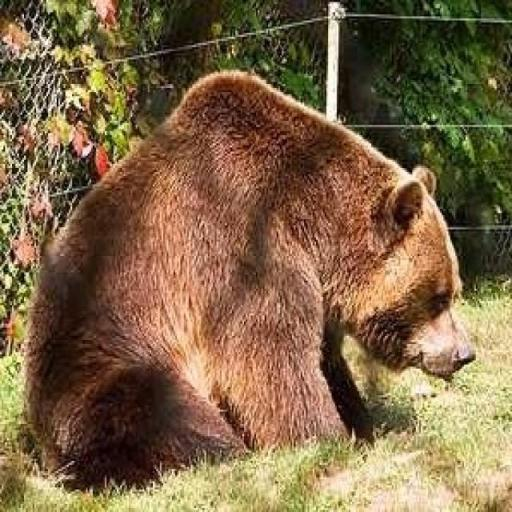Bear: (19, 66, 476, 494)
